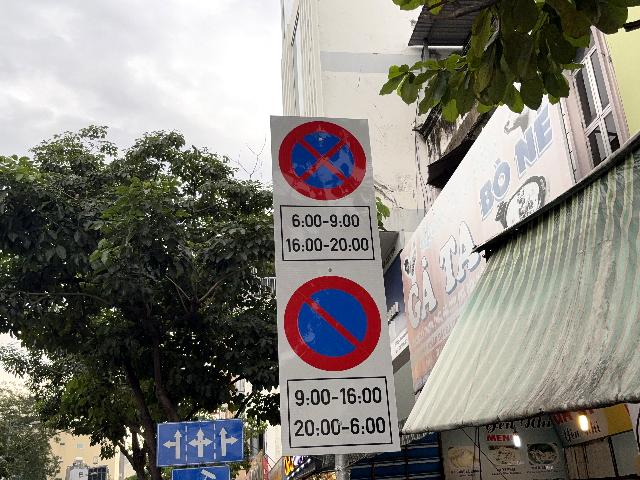cam-do-xe: (284, 277, 382, 371)
cam-dung-va-do-xe: (278, 121, 367, 201)
